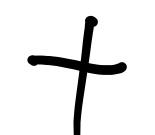plus: (26, 16, 127, 133)
